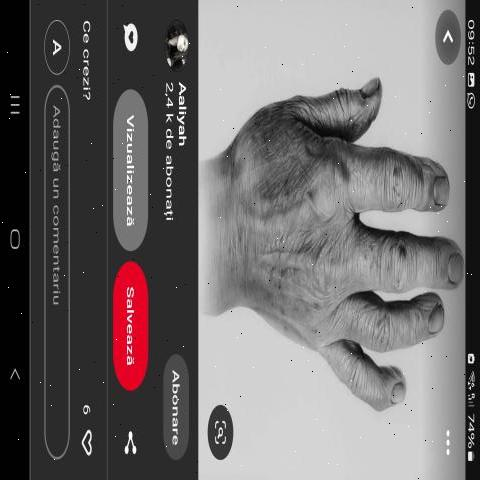Hands: (211, 56, 468, 434)
